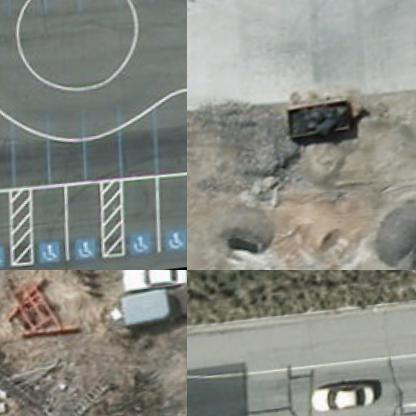car: (312, 382, 380, 413), (120, 270, 186, 296)
